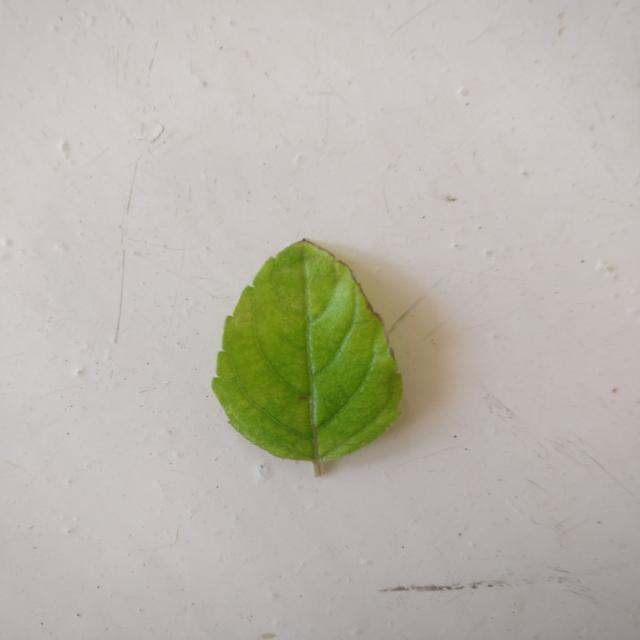tulsi: (212, 241, 402, 476)
